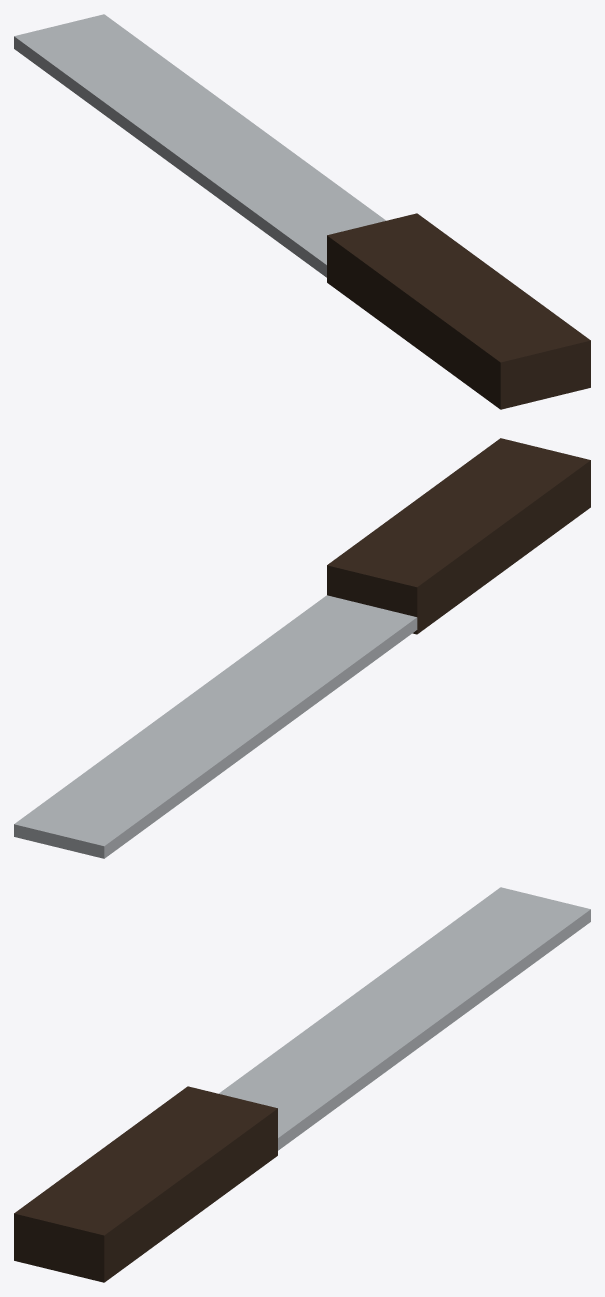
The model's file is knife.glb.
The picture shows the model from 3 angles, top to bottom: view 1: azimuth 30°, elevation 25°; view 2: azimuth 150°, elevation 25°; view 3: azimuth 330°, elevation 25°; orthographic projection.
Parts seen in each view (by area): view 1: 00_#b8bcc0_noshadow_r110, 01_#3a2a1e_noshadow_r110; view 2: 00_#b8bcc0_noshadow_r110, 01_#3a2a1e_noshadow_r110; view 3: 00_#b8bcc0_noshadow_r110, 01_#3a2a1e_noshadow_r110.
Boxes of the visible parts, x1,y1,x2,y2 form: 00_#b8bcc0_noshadow_r110: [14, 14, 385, 277]; 01_#3a2a1e_noshadow_r110: [327, 213, 590, 409]; 00_#b8bcc0_noshadow_r110: [14, 595, 417, 858]; 01_#3a2a1e_noshadow_r110: [327, 438, 590, 634]; 00_#b8bcc0_noshadow_r110: [219, 887, 590, 1150]; 01_#3a2a1e_noshadow_r110: [14, 1086, 277, 1282].
Size of the model in its own units: 0.03 by 0.015 by 0.28.
